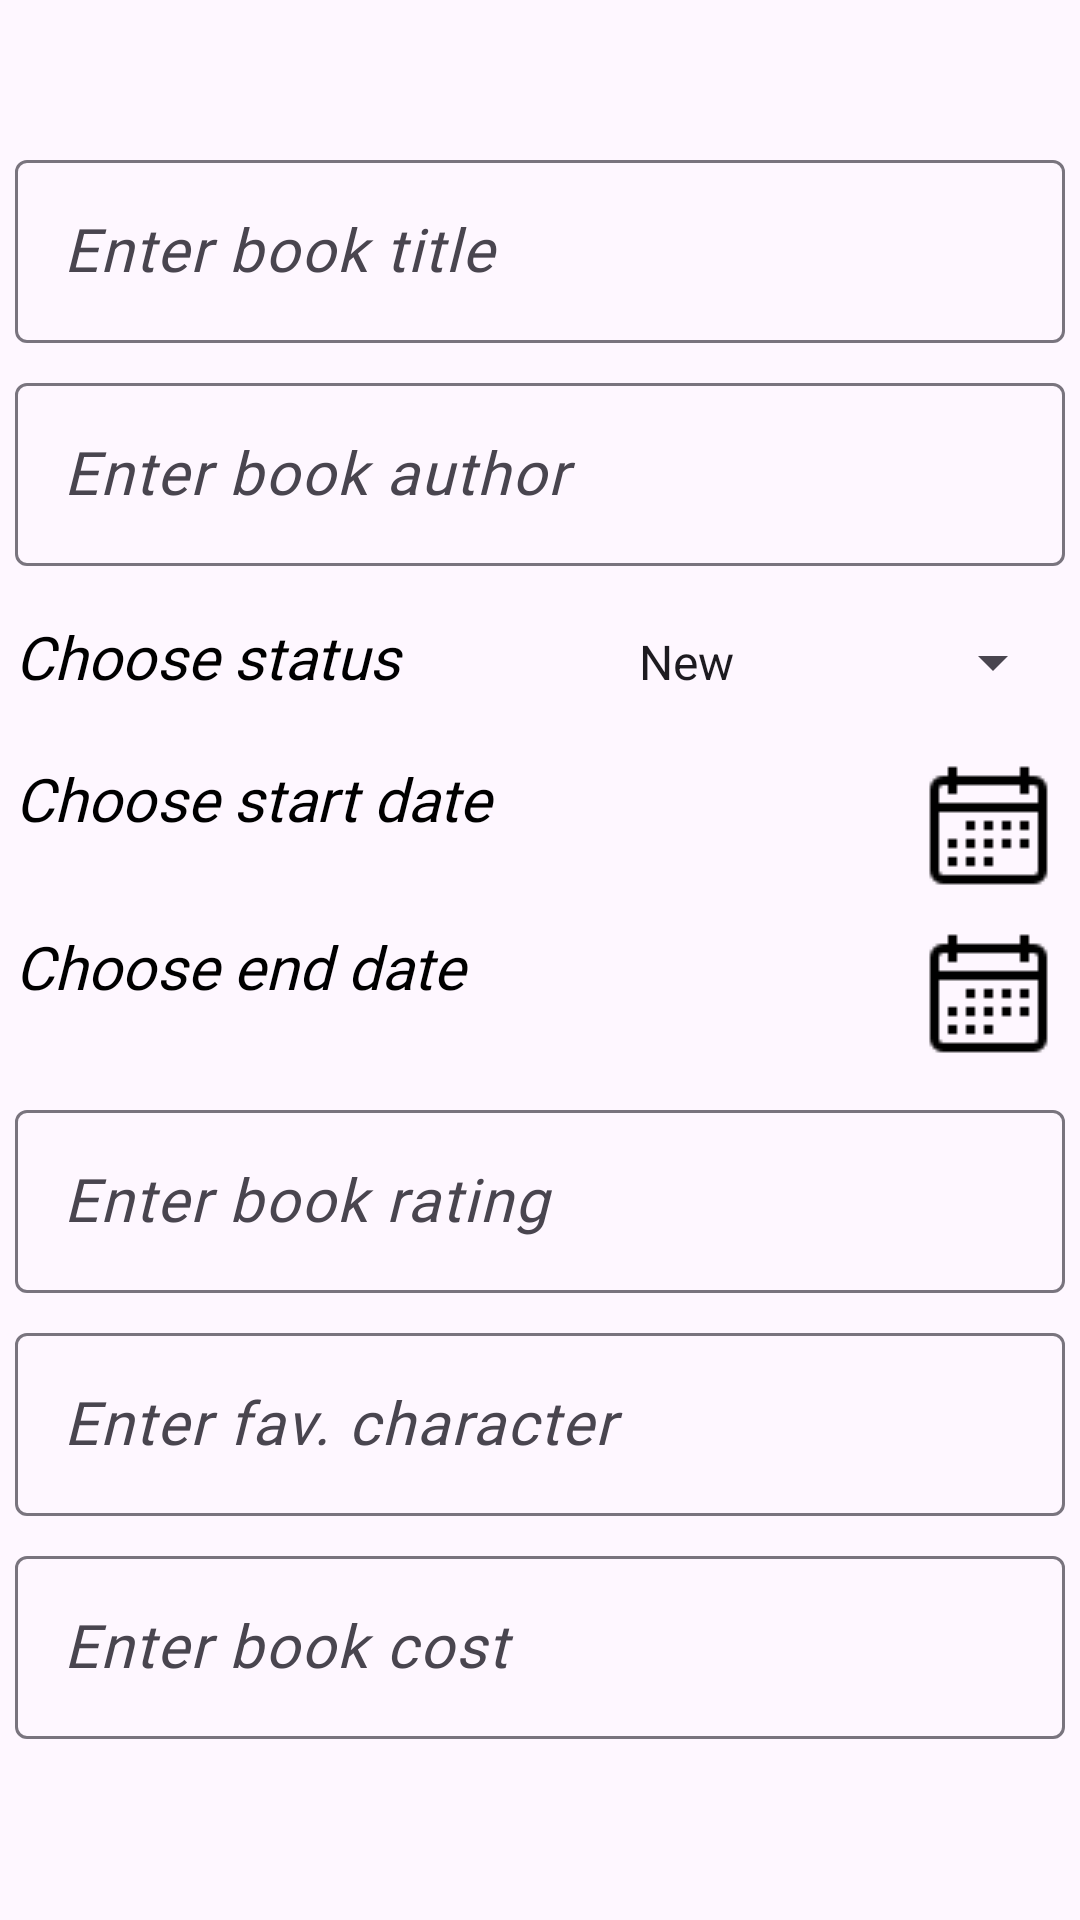

Named icons in this screenshot (1080x1920) and their centers, (x,y):
calendar: (988,825), (988,993)
